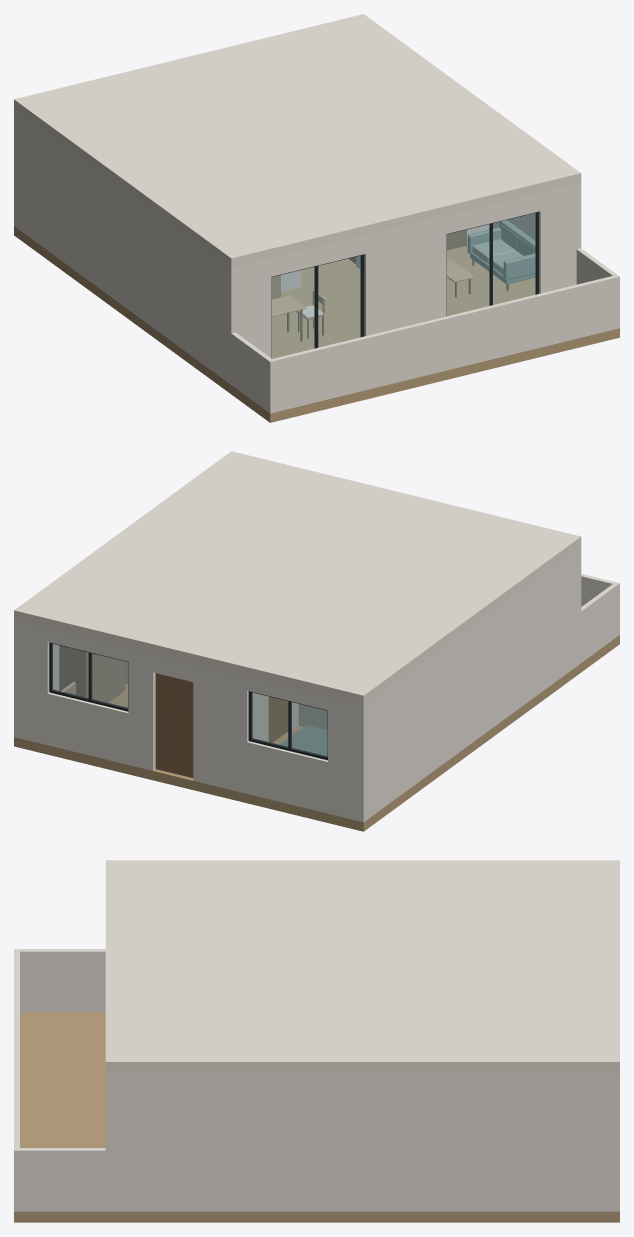
Rendered from apartment_2ldk.glb.
3 renders of one model, top to bottom at view 1: azimuth 30°, elevation 25°; view 2: azimuth 150°, elevation 25°; view 3: azimuth 270°, elevation 25°, orthographic. The views are drawn at different scales.
Parts seen in each view (by area): view 1: ceiling:slab, F1:wall_external_west, F1:wall_external_south, balcony:south_guard, F1:floor_slab, balcony:slab, F1:W02:glass_1, F1:W02:glass_2, F1:W01:glass_1, F1:W01:glass_2, balcony:west_guard, balcony:east_guard (+3 smaller); view 2: ceiling:slab, F1:wall_external_north, F1:wall_external_west, F1:floor_slab, F1:D01_door_swing, F1:storage_03, balcony:west_guard, F1:W03:glass_1, F1:W04:glass_1, F1:W04:glass_2, F1:W03:glass_2, F1:wall_partition_01 (+4 smaller); view 3: ceiling:slab, F1:wall_external_east, balcony:slab, F1:floor_slab, balcony:west_guard, balcony:east_guard, F1:wall_external_south, F1:wall_external_north, balcony:south_guard.
Part boxes in pixels (x1=…): ceiling:slab: x1=14, y1=14, x2=581, y2=267; F1:wall_external_west: x1=19, y1=113, x2=226, y2=380; F1:wall_external_south: x1=226, y1=182, x2=581, y2=384; balcony:south_guard: x1=267, y1=275, x2=619, y2=413; F1:floor_slab: x1=14, y1=226, x2=535, y2=393; balcony:slab: x1=231, y1=328, x2=619, y2=422; F1:W02:glass_1: x1=447, y1=224, x2=489, y2=315; F1:W02:glass_2: x1=493, y1=213, x2=535, y2=304; F1:W01:glass_1: x1=272, y1=267, x2=314, y2=358; F1:W01:glass_2: x1=318, y1=256, x2=360, y2=347; balcony:west_guard: x1=231, y1=332, x2=271, y2=411; balcony:east_guard: x1=576, y1=248, x2=616, y2=284; ceiling:slab: x1=14, y1=451, x2=581, y2=704; F1:wall_external_north: x1=14, y1=620, x2=368, y2=822; F1:wall_external_west: x1=369, y1=550, x2=575, y2=818; F1:floor_slab: x1=14, y1=663, x2=581, y2=831; F1:D01_door_swing: x1=155, y1=673, x2=193, y2=777; F1:storage_03: x1=59, y1=645, x2=124, y2=702; balcony:west_guard: x1=581, y1=584, x2=617, y2=662; F1:W03:glass_1: x1=291, y1=702, x2=327, y2=756; F1:W04:glass_1: x1=91, y1=653, x2=127, y2=708; F1:W04:glass_2: x1=52, y1=644, x2=88, y2=698; F1:W03:glass_2: x1=252, y1=692, x2=287, y2=747; F1:wall_partition_01: x1=125, y1=661, x2=327, y2=741; ceiling:slab: x1=105, y1=860, x2=619, y2=1072; F1:wall_external_east: x1=118, y1=1073, x2=607, y2=1211; balcony:slab: x1=14, y1=1012, x2=105, y2=1222; F1:floor_slab: x1=105, y1=1211, x2=619, y2=1222; balcony:west_guard: x1=20, y1=949, x2=105, y2=1012; balcony:east_guard: x1=20, y1=1148, x2=105, y2=1211; F1:wall_external_south: x1=105, y1=1073, x2=117, y2=1211; F1:wall_external_north: x1=607, y1=1073, x2=619, y2=1211; balcony:south_guard: x1=14, y1=949, x2=19, y2=1211.
Size of the model in its own units: 7.8 by 2.9 by 9.9.
183 materials, 1 textured.
